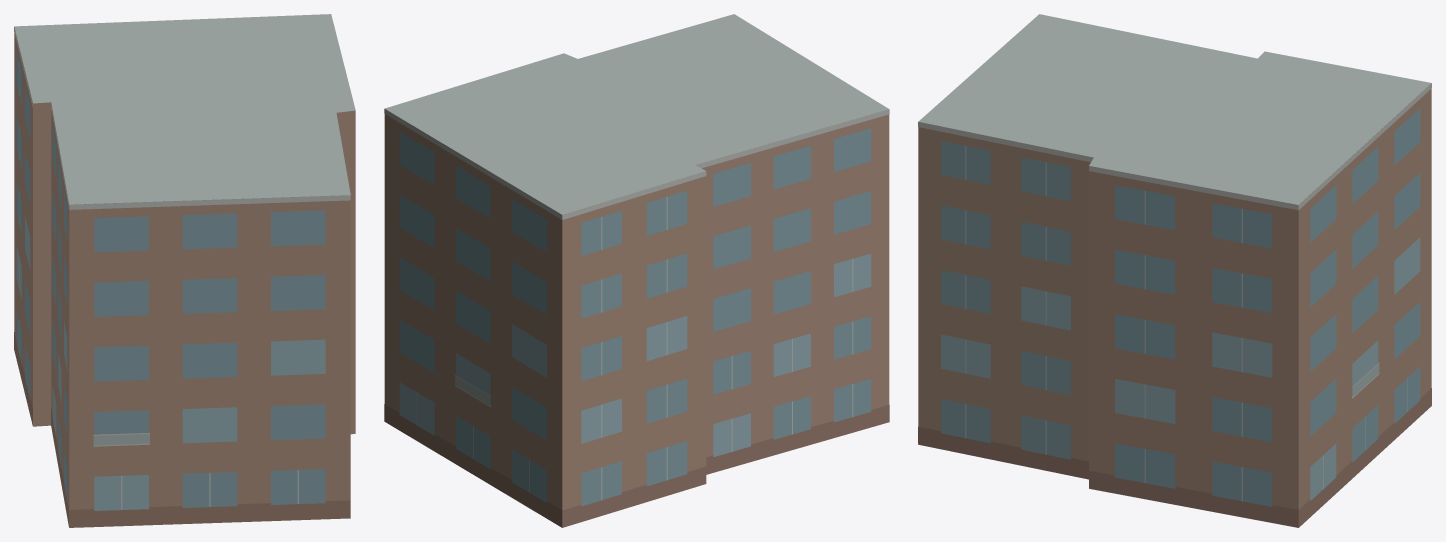
File: survey-upis-32484386.glb
The picture shows the model from 3 angles, left to right: view 1: azimuth 30°, elevation 25°; view 2: azimuth 150°, elevation 25°; view 3: azimuth 270°, elevation 25°; orthographic projection. The views are drawn at different scales.
Parts seen in each view (by area): view 1: survey-upis-32484386.tmp; view 2: survey-upis-32484386.tmp; view 3: survey-upis-32484386.tmp.
Boxes of the visible parts, <box> form: survey-upis-32484386.tmp: <box>14,14,355,527</box>; survey-upis-32484386.tmp: <box>384,14,889,527</box>; survey-upis-32484386.tmp: <box>918,14,1431,527</box>.
Size of the model in its own units: 18.91 by 14.9 by 21.49.
